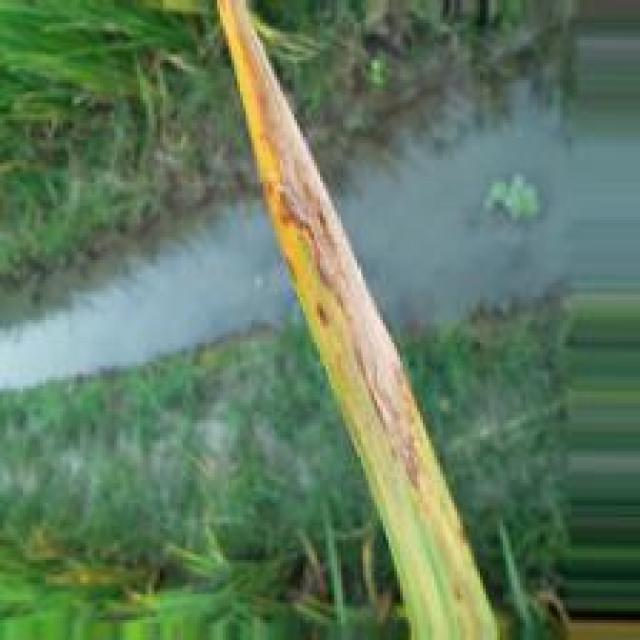Leaf_Scald: (221, 0, 417, 478)
